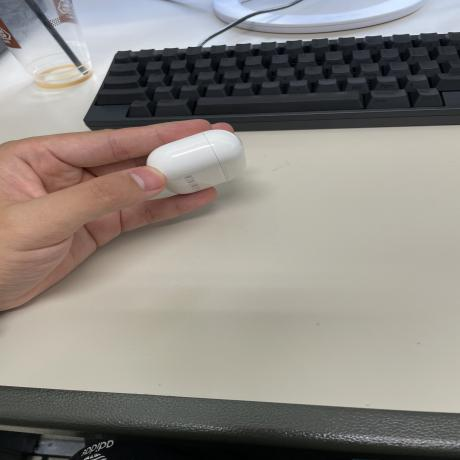airpod3: (143, 126, 251, 196)
